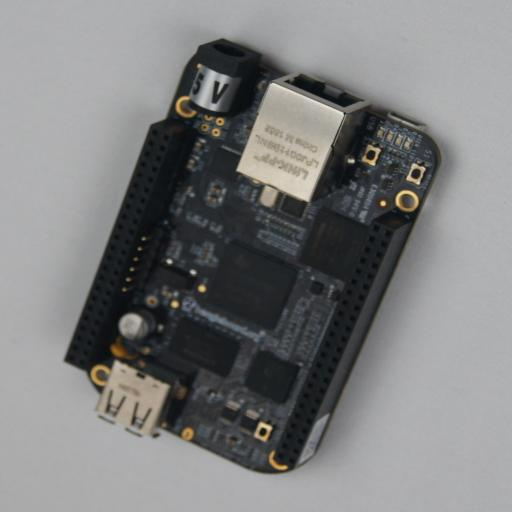Beaglebone Black: (64, 38, 442, 474)
